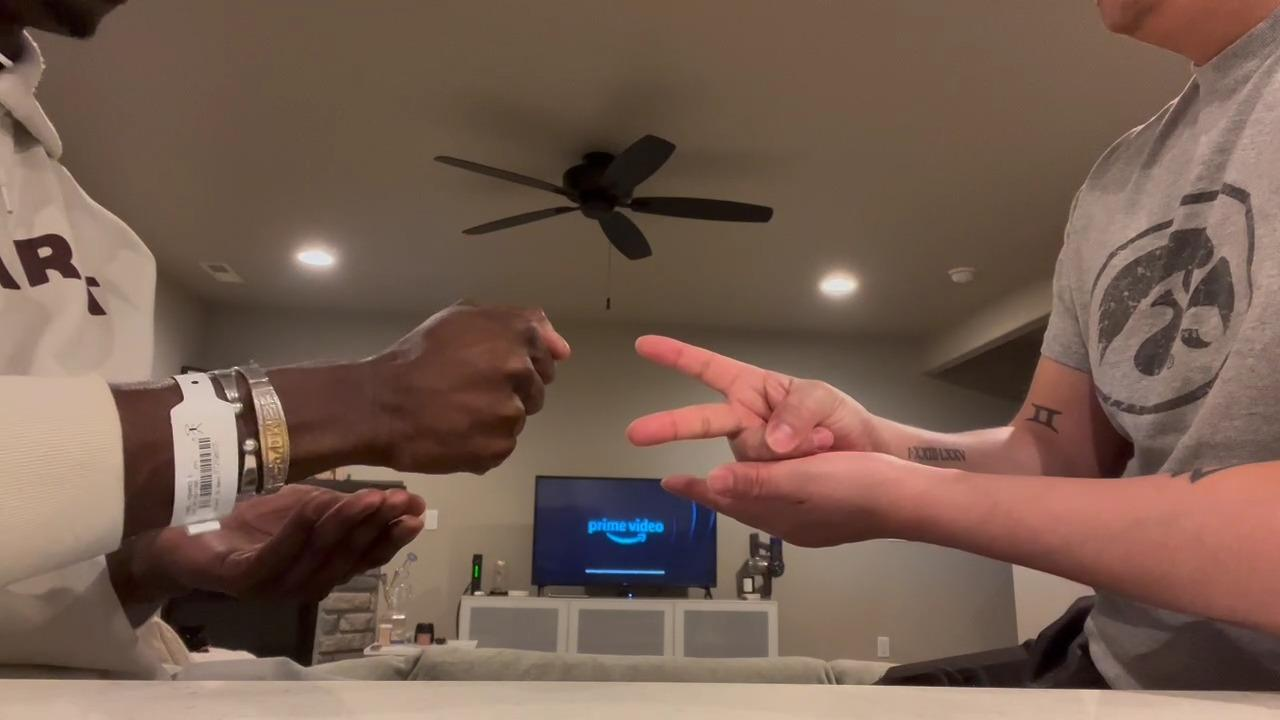Rock: (383, 298, 576, 479)
Scissors: (627, 333, 873, 469)
